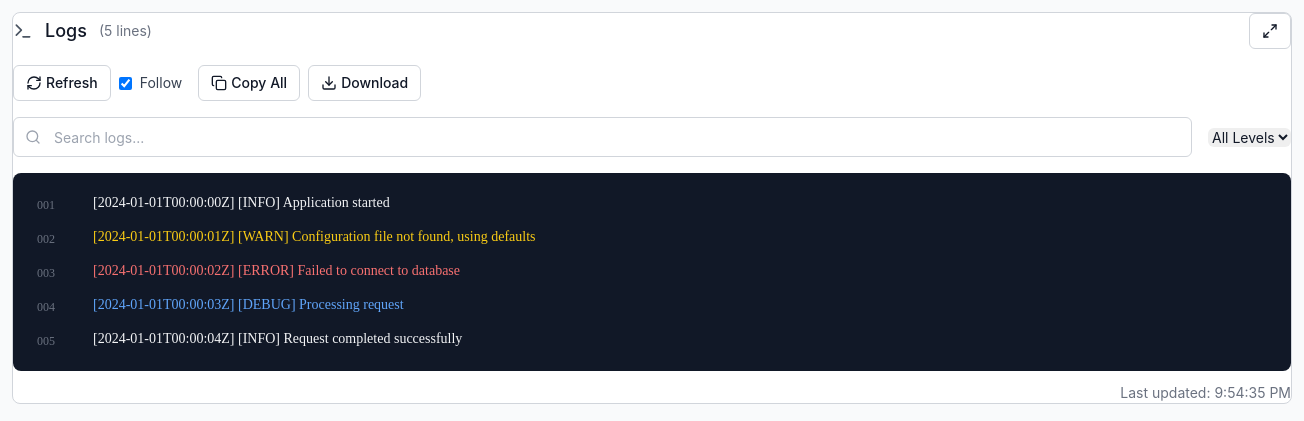
Test: LogViewer › filters logs by level
Select "Error" in the dropdown showing "All Levels": (1250, 137) [1208,128,1291,146]
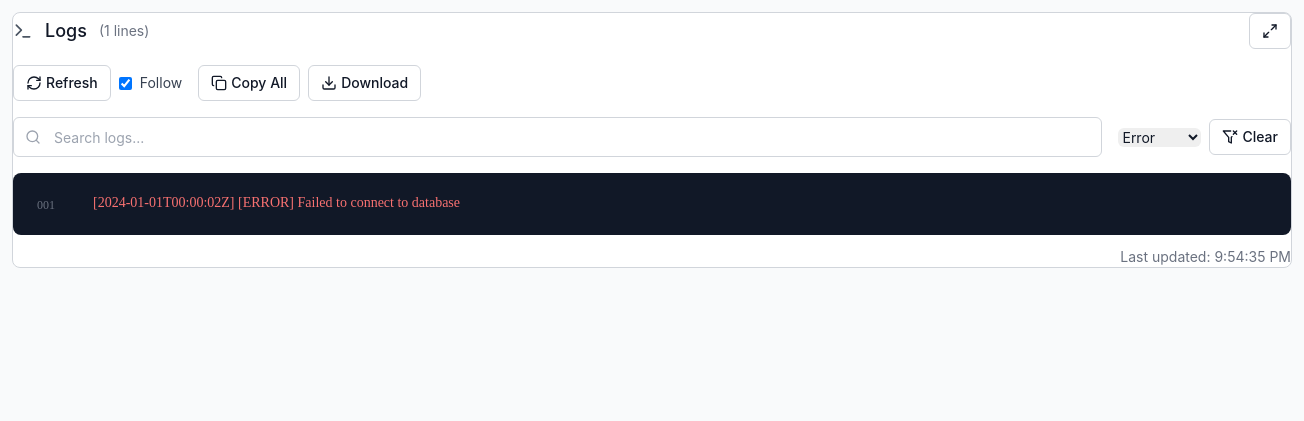
Result: the text "[2024-01-01T00:00:02Z] [ERROR] Failed to connect to database" is shown at [93,195,460,210]
Result: the text "Application started" is gone
